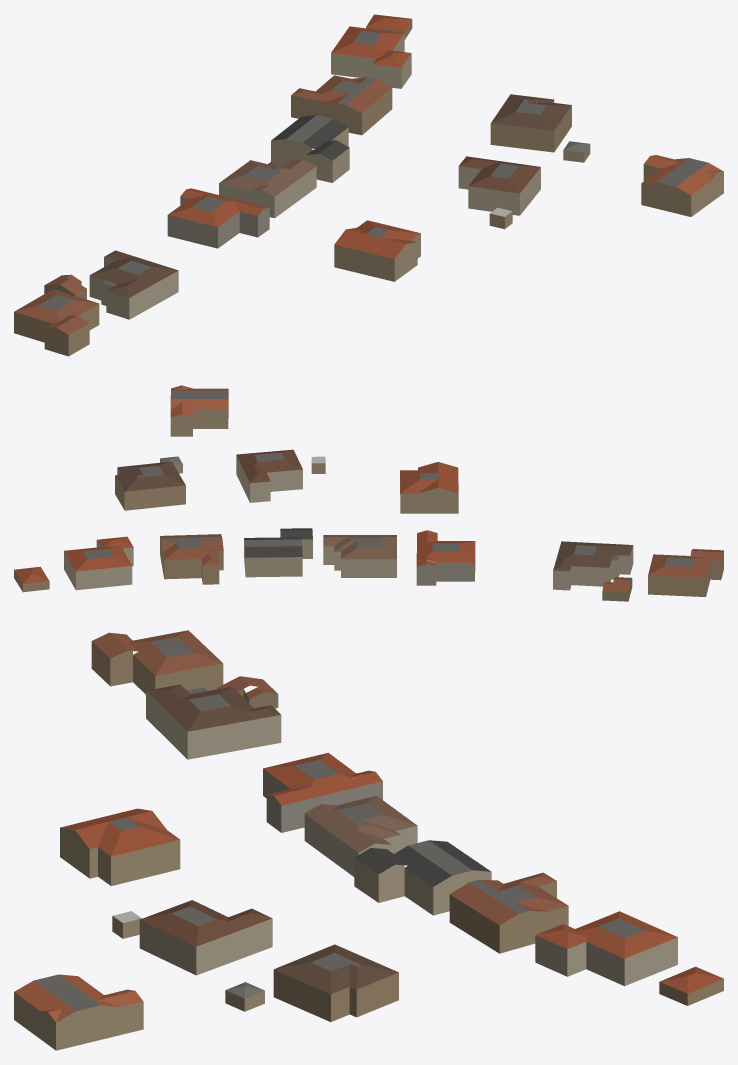
3 renders of one model, top to bottom at view 1: azimuth 30°, elevation 25°; view 2: azimuth 150°, elevation 25°; view 3: azimuth 270°, elevation 25°, orthographic. The views are drawn at different scales.
Visible parts, largest first — view 1: buildings_r0_c5_lod1; view 2: buildings_r0_c5_lod1; view 3: buildings_r0_c5_lod1.
Boxes of the visible parts, x1,y1,x2,y2 form: buildings_r0_c5_lod1: (14,14,723,356); buildings_r0_c5_lod1: (14,385,723,601); buildings_r0_c5_lod1: (14,630,723,1050).
Bounding box in the file's own units: 221 × 14.39 × 160.
